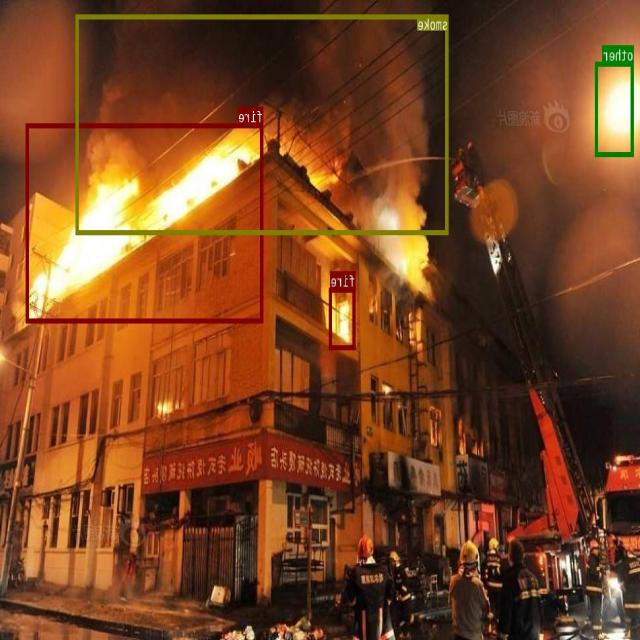fire: (27, 122, 264, 322), (330, 288, 356, 348)
other: (596, 61, 634, 156)
smoke: (77, 14, 449, 234)
